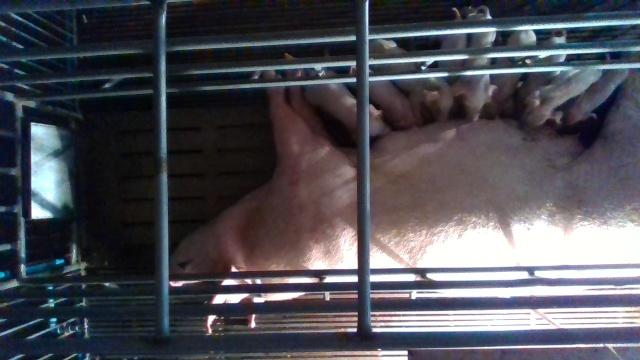piglet: (371, 40, 461, 120), (302, 74, 391, 139), (453, 6, 498, 120), (524, 68, 603, 126), (348, 65, 419, 128), (516, 30, 566, 111), (566, 68, 631, 125), (497, 31, 536, 116), (441, 7, 468, 84)
sow-sleep-lactate: (172, 72, 640, 298)
